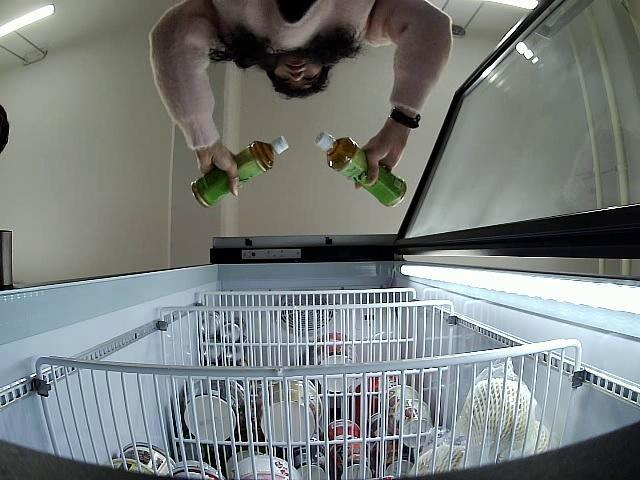19_17cha: (190, 136, 288, 210), (314, 132, 408, 208)
